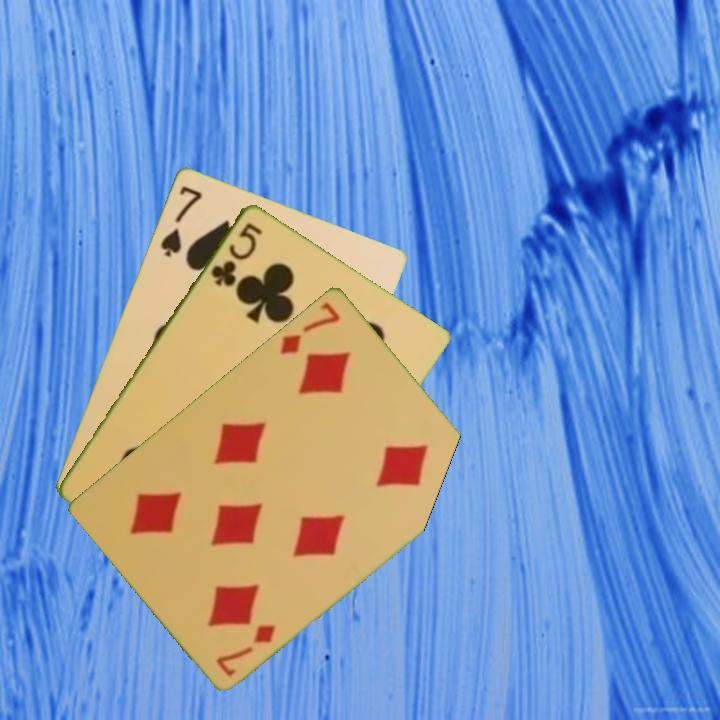5c: (206, 218, 265, 289)
7d: (276, 297, 343, 357), (212, 620, 279, 679)
7s: (156, 182, 205, 260)
